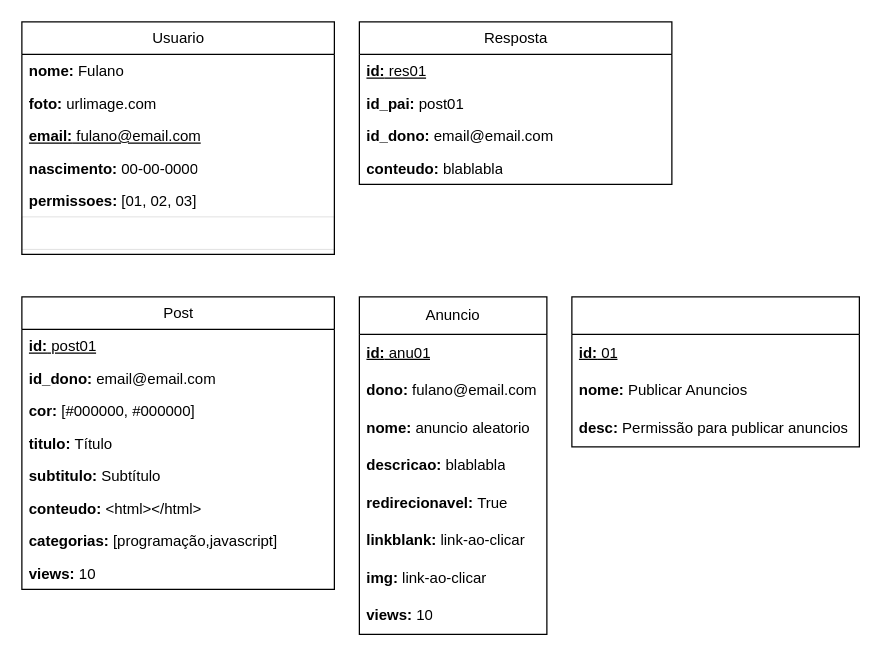
Image size: 881x656. Some labels were removed from this diagram. Each missing label, with the box of its shape:
Permissoes: (571, 296, 859, 447)
user-area: (21, 216, 334, 254)
